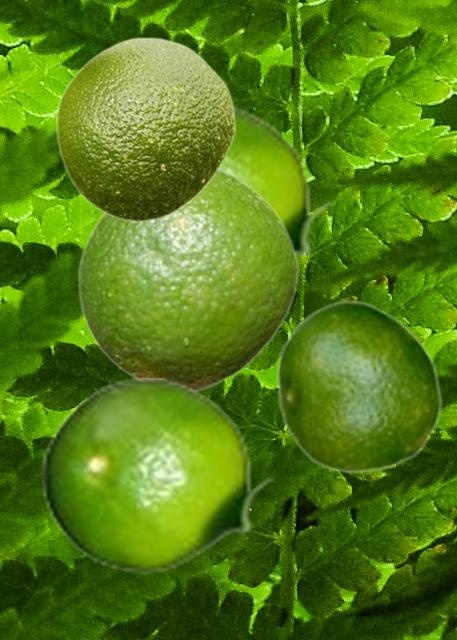calamansi: (77, 168, 298, 391), (40, 378, 275, 573), (55, 36, 235, 222), (275, 299, 442, 473), (221, 104, 334, 264)
